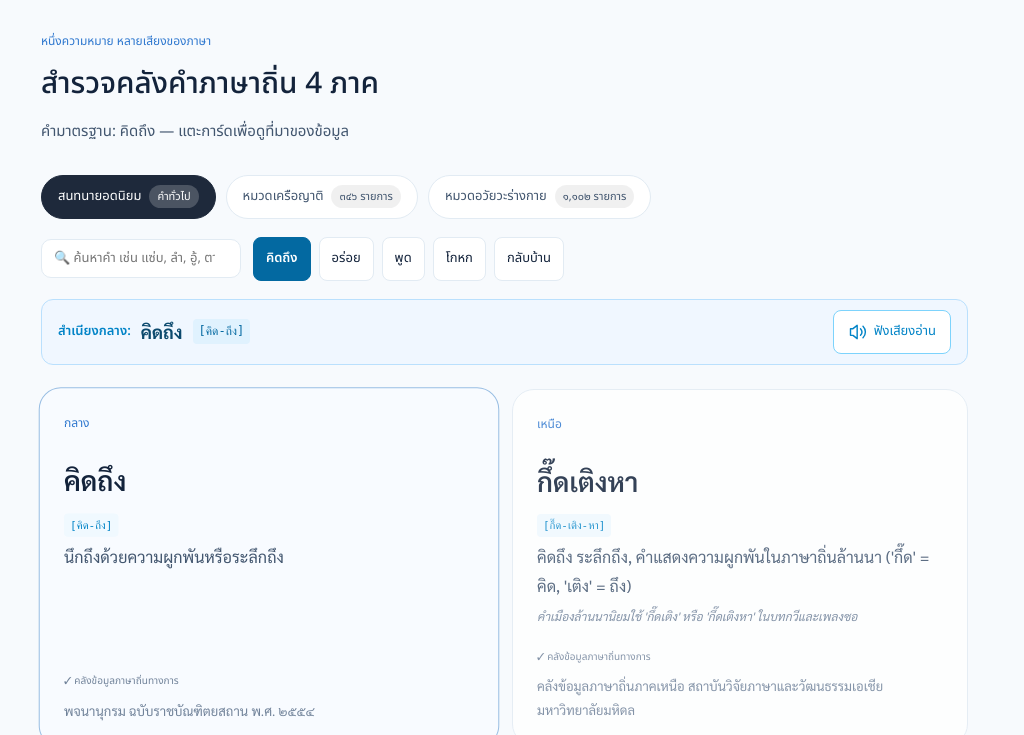
Test: DialectExplorer Component › filters words when typing into search input
Type "เว้า" into the search field with placeholder "🔍 ค้นหาคำ เช่น แซ่บ, ลำ, อู้, ตา...".
click(141, 259); type("เว้า")  # box [41,239,241,278]
(page scrolled)
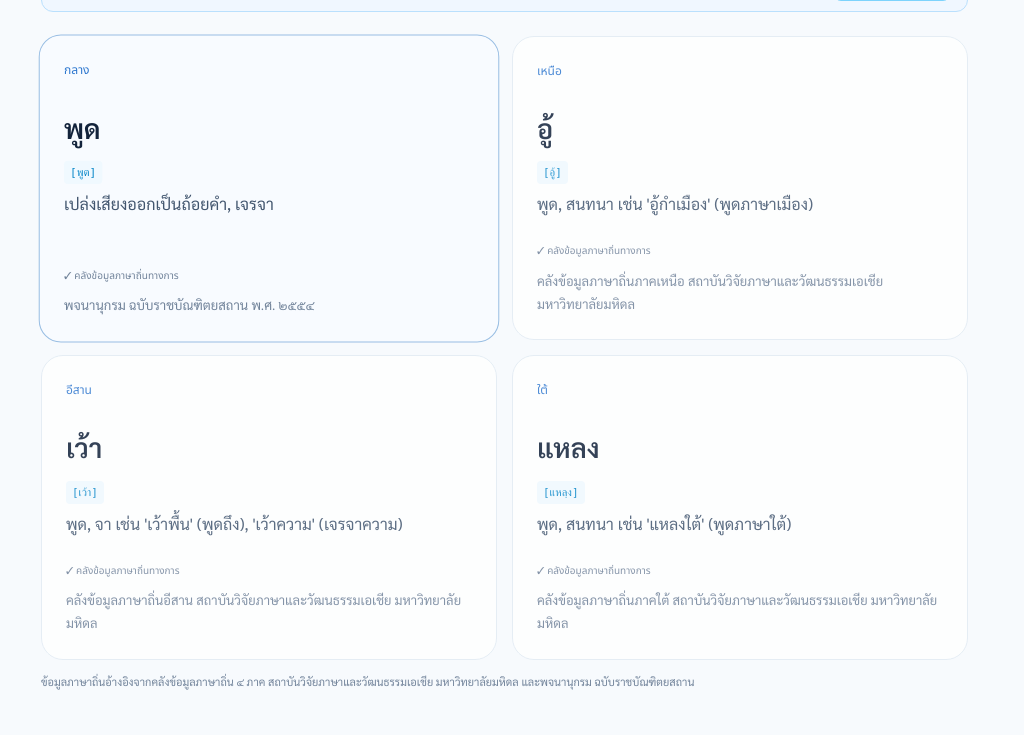
Now the text "อู้" is shown, box [537,106,553,149]
Now the text "เว้า" is shown, box [66,425,102,468]
Now the text "แหลง" is shown, box [537,425,600,468]
